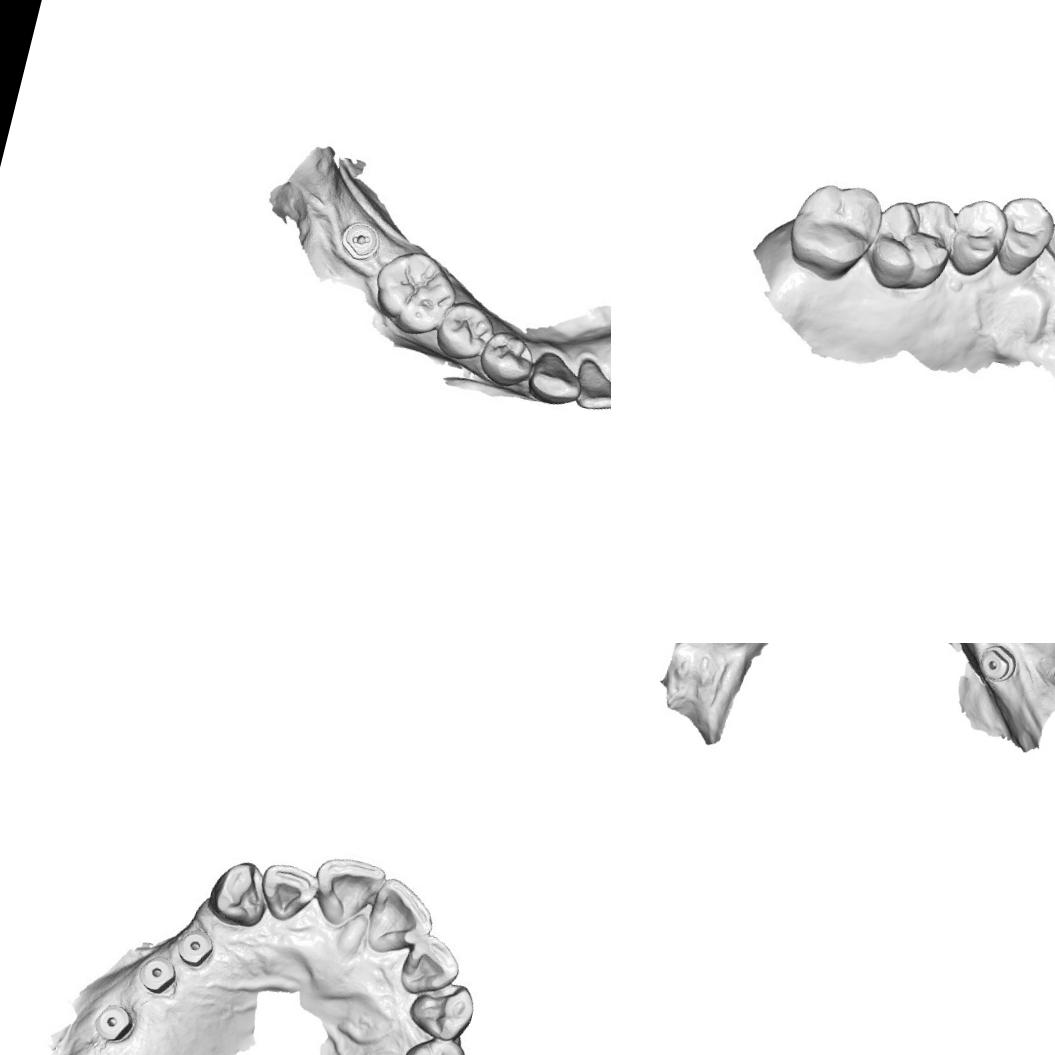canine: (404, 974, 480, 1044), (205, 854, 274, 929), (523, 346, 589, 410)
implant: (86, 996, 140, 1050), (974, 643, 1021, 688), (135, 950, 178, 994), (174, 927, 218, 969)
implant_minus: (334, 215, 383, 263)
incisor: (304, 848, 389, 939), (358, 876, 441, 963), (392, 926, 467, 1004), (253, 858, 324, 928), (568, 353, 611, 416)
molar: (778, 169, 890, 290), (860, 185, 967, 303), (363, 240, 463, 343)
premolar: (941, 191, 1014, 284), (985, 187, 1055, 282), (430, 295, 498, 367), (475, 327, 540, 393), (395, 1030, 478, 1055)
